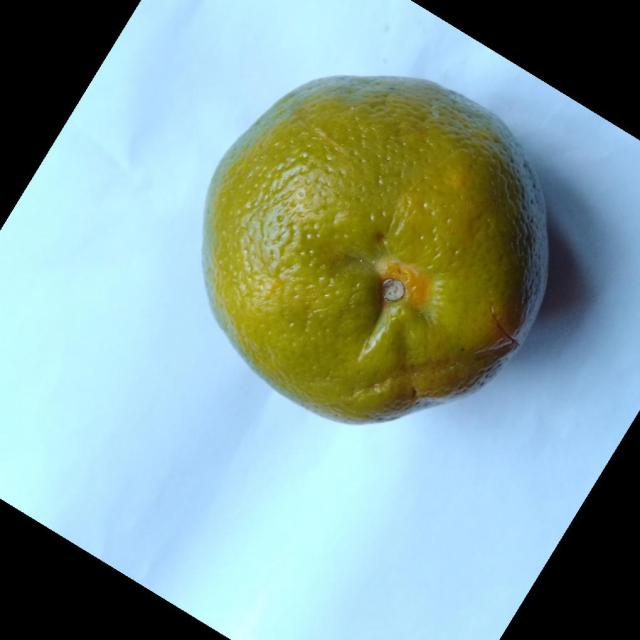fresh orange: (200, 73, 550, 426)
